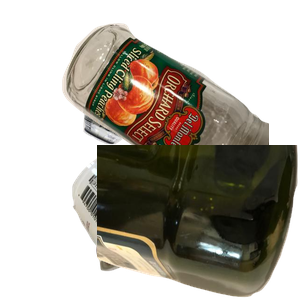glass: (60, 21, 300, 201)
metal: (81, 41, 234, 178)
plastic: (97, 145, 300, 300)
trash: (70, 149, 254, 300)
